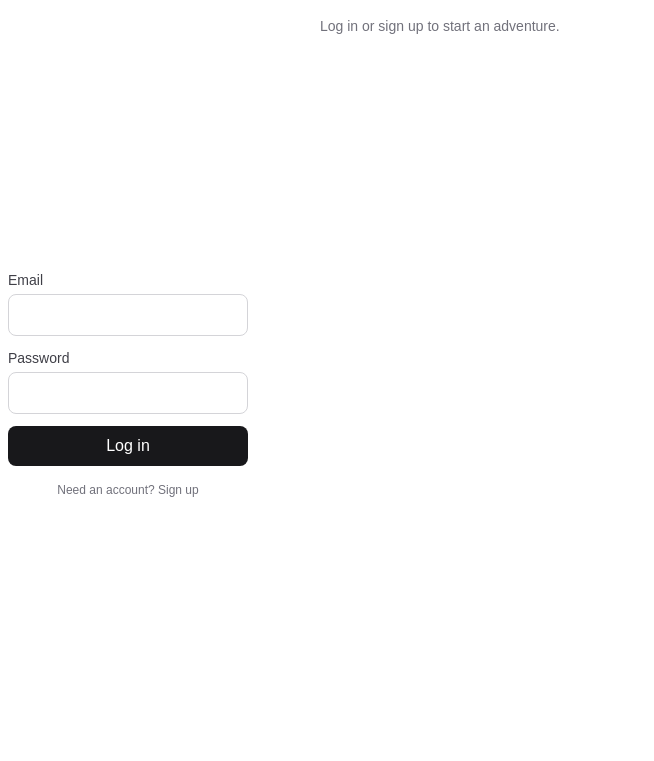
Test: ChatApp, logged-out on mount › re-fetches listAdventures after a successful login
The image size is (654, 761).
Type "jane@example.com" into the field labelled "Email" at (128, 315), box left=8, top=294, right=248, bottom=336
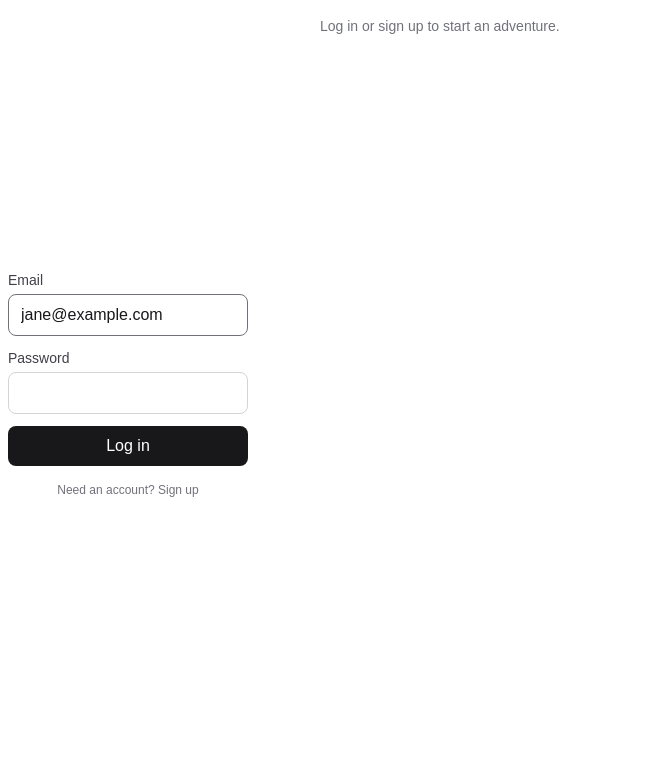
Type "password123" into the password field labelled "Password" at (128, 393), box left=8, top=372, right=248, bottom=414
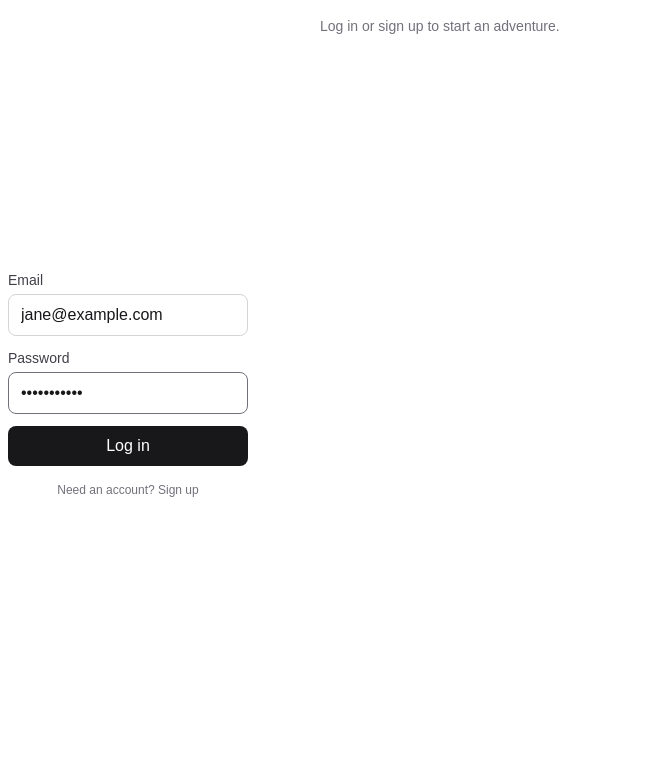
Click the button "Log in" at (128, 446), box left=8, top=426, right=248, bottom=466
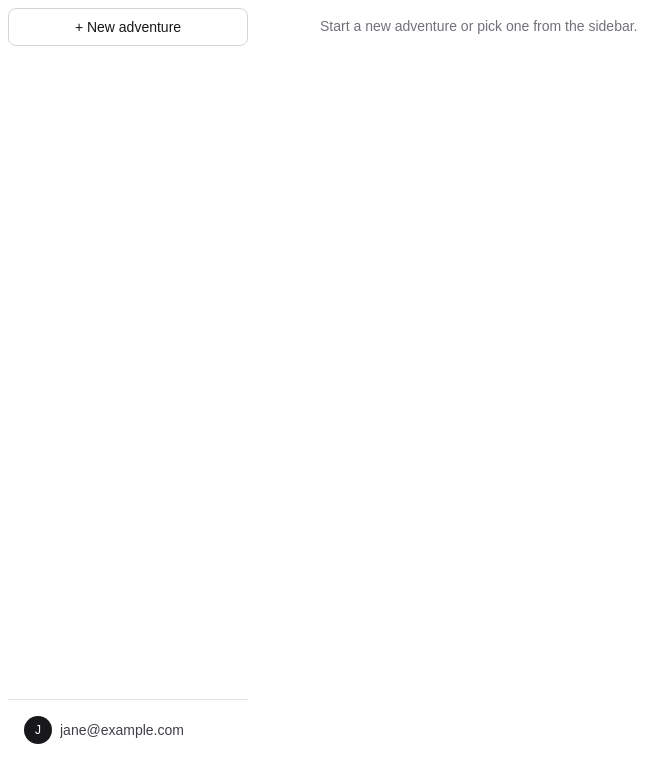
Result: the text "jane@example.com" is shown at left=60, top=720, right=184, bottom=740
